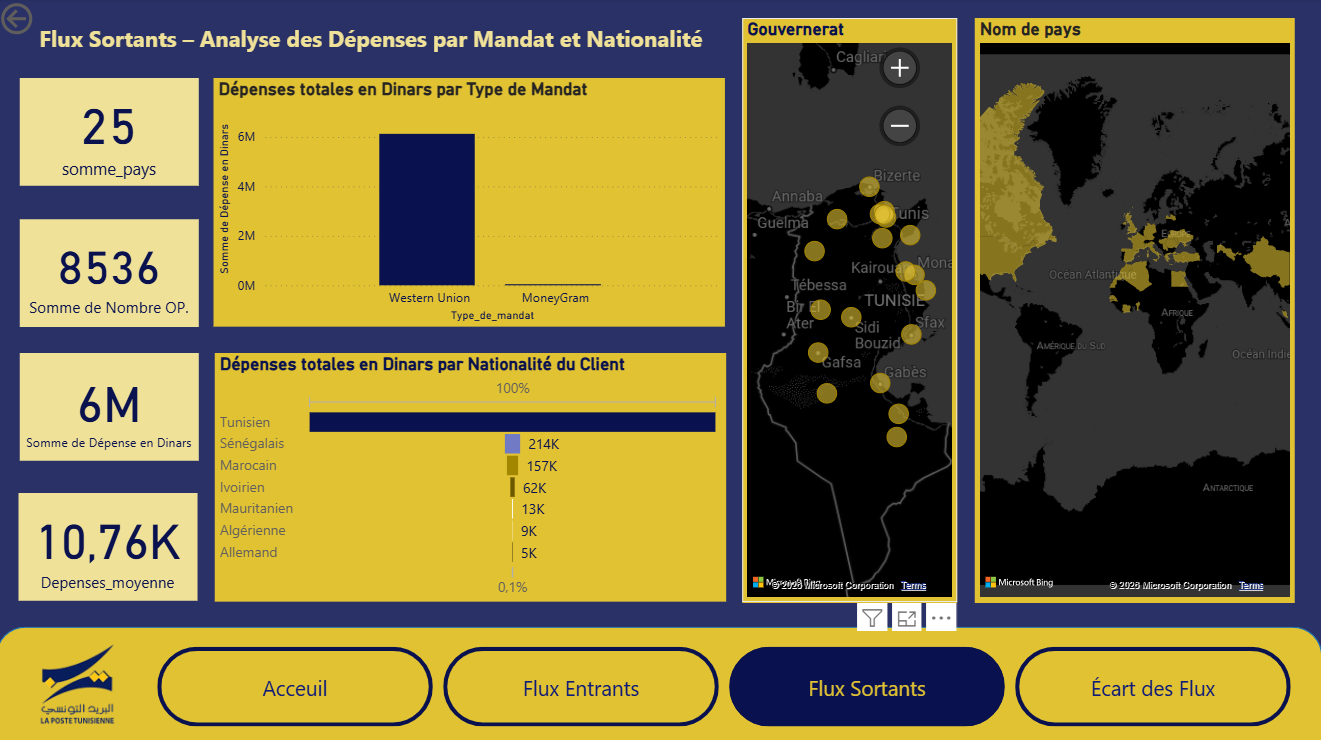

This screenshot's page, from the dashboard's own definition file:
{"tool":"powerbi","page":{"name":"Flux Sortants","canvas":[1280,720],"ordinal":2},"visuals":[{"type":"shape","box":[0,607.1,1280,112.9],"z":0},{"type":"image","box":[0,607.1,155.7,112.9],"z":1000},{"type":"pageNavigator","box":[155.7,625.7,1097.1,77.1],"z":2000},{"type":"columnChart","title":"Dépenses totales en Dinars par Type de Mandat","fields":{"Category":["data_transaction csv.Type_de_mandat"],"Y":["Sum(data_transaction csv.Dépense en Dinars)"]},"box":[209.9,77.2,493.4,240.1],"z":3000},{"type":"map","fields":{"Category":["data_transaction csv.Gouvernerat"]},"box":[720.4,19.2,207.2,564],"z":4000},{"type":"filledMap","title":"Nom de pays ","fields":{"Category":["data_transaction csv.Nom_Pays"]},"box":[944.1,19.2,308.7,564],"z":5000},{"type":"card","fields":{"Values":["Sum(data_transaction csv.Nombre OP.)"]},"box":[22.9,213.5,172.5,103.8],"z":6000},{"type":"card","fields":{"Values":["Sum(data_transaction csv.Dépense en Dinars)"]},"box":[22.9,342.6,172.5,103.8],"z":7000},{"type":"card","fields":{"Values":["data_transaction csv.somme_pays"]},"box":[22.9,77.2,172.5,103.8],"z":8000},{"type":"card","fields":{"Values":["data_transaction csv.Depenses_moyenne"]},"box":[21.7,477.8,172.5,103.8],"z":9000},{"type":"funnel","title":"Dépenses totales en Dinars par Nationalité du Client","fields":{"Category":["data_transaction csv.Nationalite_client"],"Y":["Sum(data_transaction csv.Dépense en Dinars)"]},"box":[211.1,342.6,493.4,240.1],"z":10000},{"type":"textbox","box":[21.7,19.3,680.4,44.6],"z":11000},{"type":"actionButton","box":[0,0,100,40],"z":12000}]}

Visuals, with their boxes in screenshot pixels (x1, y1, x2, y2), scaled from the page's 1280x720 canvas onto the 1321x740 screenshot:
shape: box(0, 624, 1320, 739)
image: box(0, 624, 161, 739)
pageNavigator: box(161, 643, 1293, 722)
"Dépenses totales en Dinars par Type de Mandat" columnChart: box(217, 79, 726, 326)
map - data_transaction csv.Gouvernerat: box(743, 20, 957, 599)
"Nom de pays " filledMap: box(974, 20, 1293, 599)
card - Sum(data_transaction csv.Nombre OP.): box(24, 219, 202, 326)
card - Sum(data_transaction csv.Dépense en Dinars): box(24, 352, 202, 459)
card - data_transaction csv.somme_pays: box(24, 79, 202, 186)
card - data_transaction csv.Depenses_moyenne: box(22, 491, 200, 598)
"Dépenses totales en Dinars par Nationalité du Client" funnel: box(218, 352, 727, 599)
textbox: box(22, 20, 725, 66)
actionButton: box(0, 0, 103, 41)
